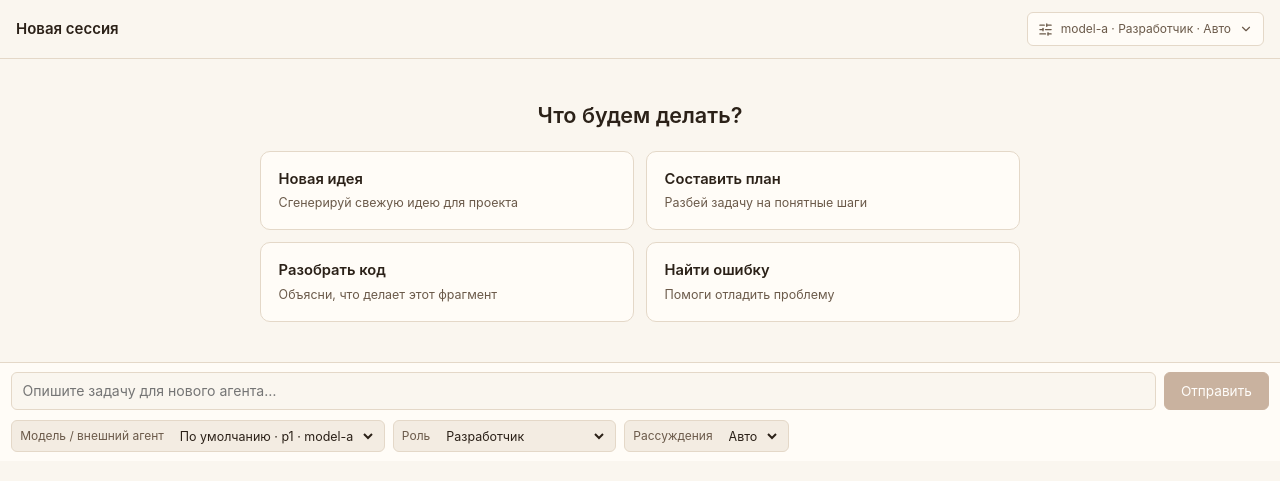
it: HomeView › shows an error when no project is selected
Step 1. Type "что-то" into the text box with test id "composer-input" → (584, 391), box [11,372,1156,410]
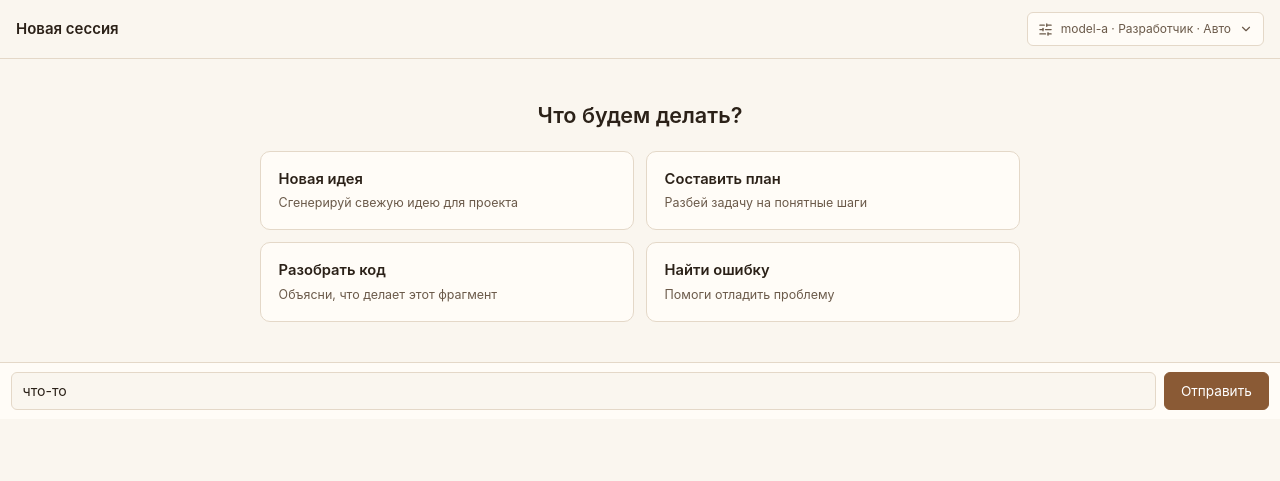
Step 2. Press Enter in the text box with test id "composer-input", box [11,372,1156,410]
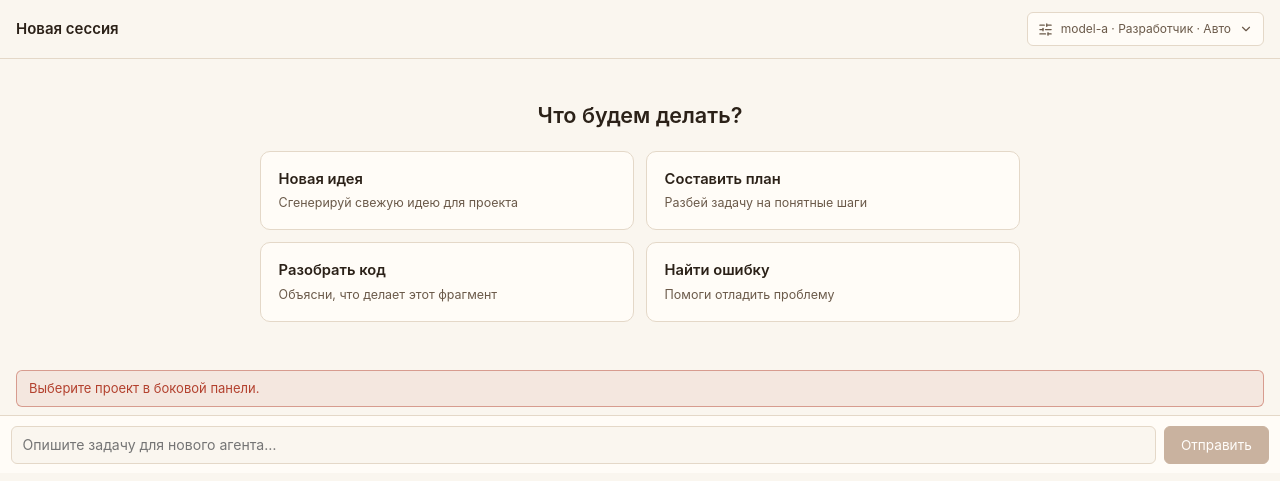
Result: the text with test id "home-error" shows "Выберите проект" at [29,380,260,396]
